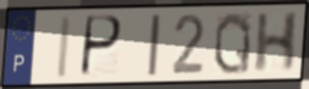2: (168, 12, 206, 77)
H: (252, 9, 302, 75)
I: (53, 14, 75, 81), (146, 12, 163, 78)
P: (78, 14, 125, 80)
Q: (212, 10, 254, 77)
